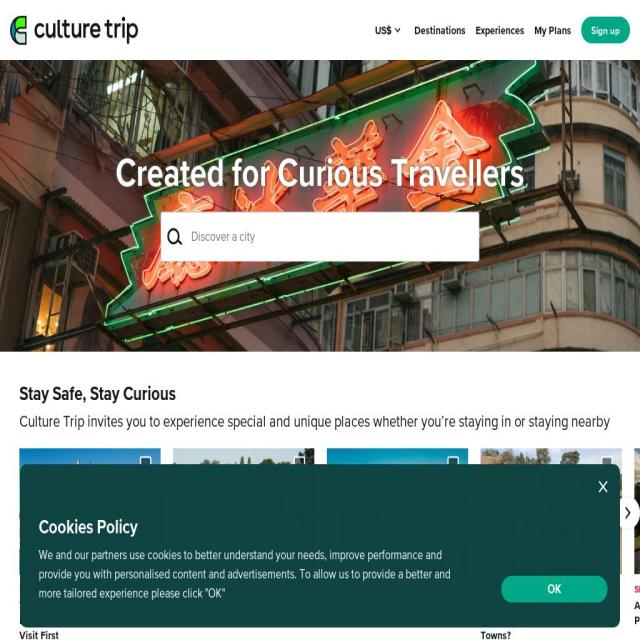button: (18, 448, 160, 640), (172, 448, 314, 640), (326, 448, 468, 640), (480, 448, 622, 640), (10, 15, 138, 45), (502, 576, 608, 602), (414, 13, 466, 47), (581, 17, 630, 43), (634, 448, 640, 640), (375, 13, 403, 47), (614, 496, 640, 532)
field: (160, 212, 480, 262)
heading: (25, 150, 615, 195), (19, 410, 640, 432), (39, 512, 501, 541), (18, 596, 160, 640), (480, 596, 622, 640), (172, 596, 314, 628), (326, 596, 468, 628), (18, 381, 175, 406), (18, 582, 160, 596), (172, 582, 314, 596), (326, 582, 468, 596), (480, 582, 622, 596), (634, 596, 640, 628), (634, 582, 640, 596)
image: (0, 60, 640, 352), (18, 448, 160, 574), (18, 448, 160, 574), (172, 448, 314, 574), (172, 448, 314, 574), (326, 448, 468, 574), (326, 448, 468, 574), (480, 448, 622, 574), (480, 448, 622, 574), (10, 15, 138, 45), (614, 496, 640, 530), (634, 448, 640, 574), (634, 448, 640, 574), (166, 224, 184, 249), (136, 455, 154, 478), (290, 455, 308, 478), (444, 455, 462, 478), (598, 455, 616, 478), (596, 476, 610, 496), (392, 22, 403, 38)
link: (33, 511, 150, 546), (476, 22, 524, 38), (534, 22, 572, 38)
text: (39, 545, 501, 603), (130, 561, 158, 579), (375, 24, 392, 36)
